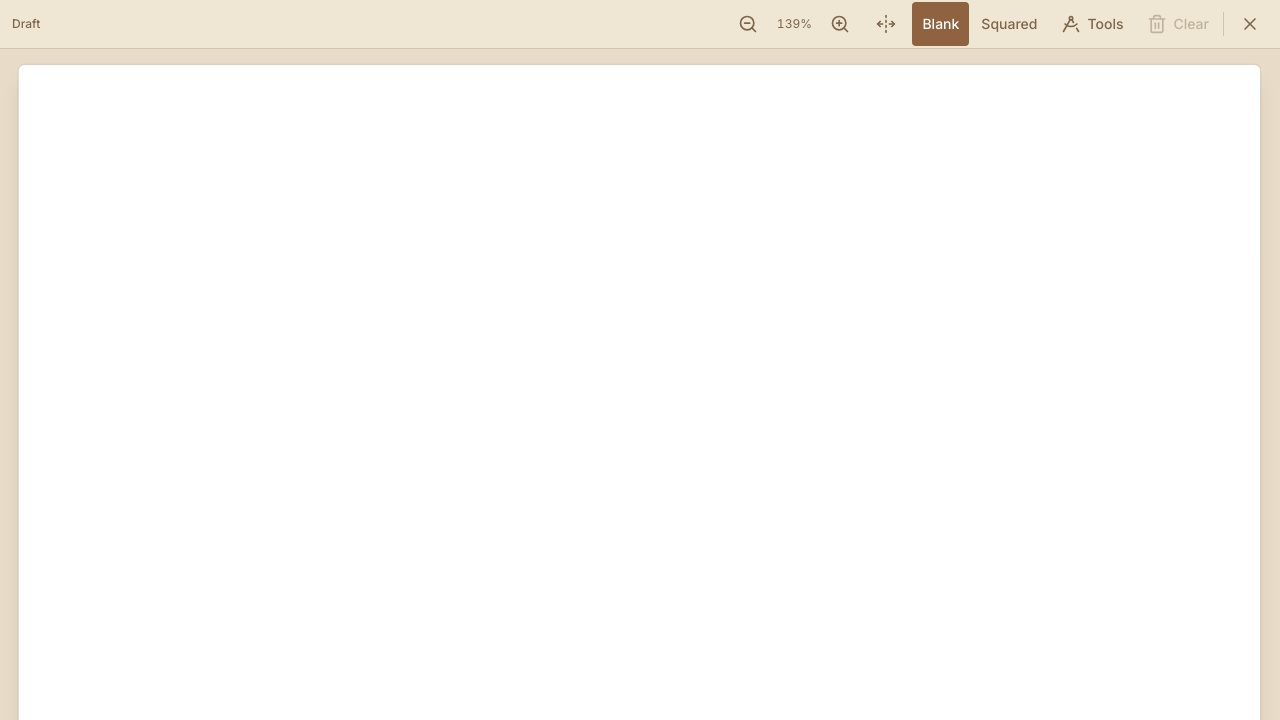
DraftPane › drawing axes › remembers the axes' settings on this board, and opens with them next time
Click the button "Tools".
click(1092, 24)  # box [1051,2,1133,46]
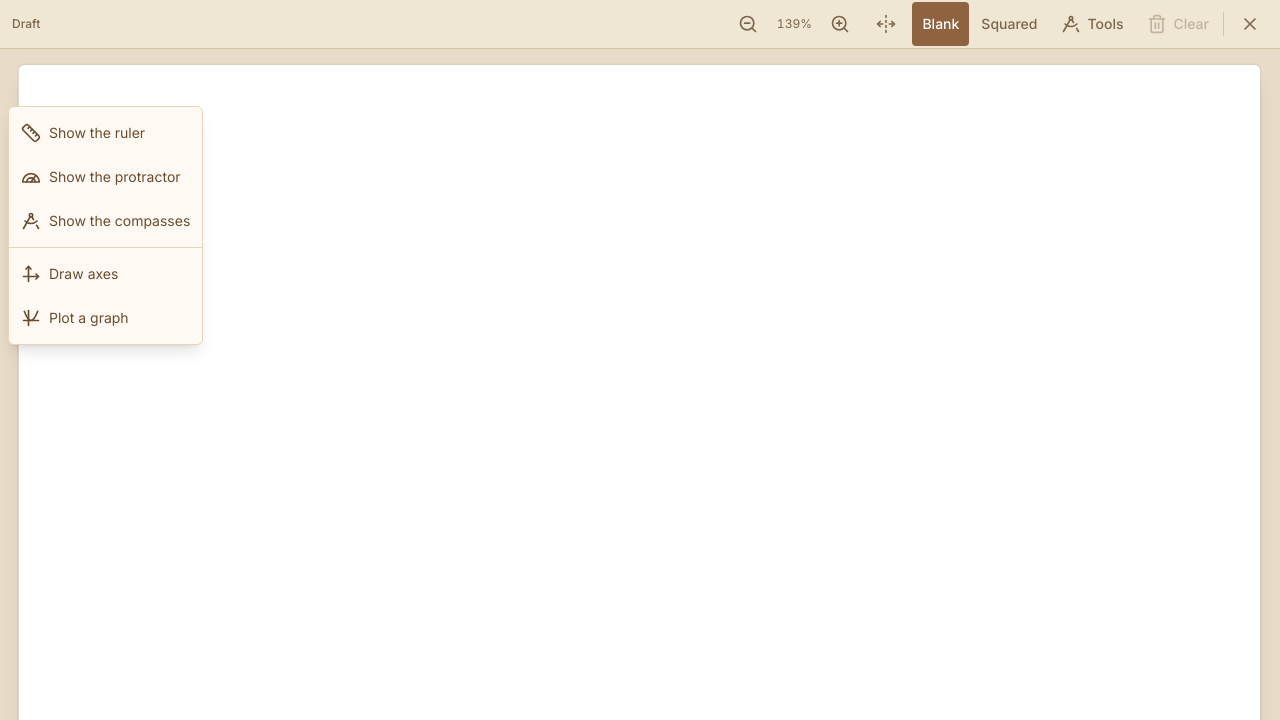
Click the menu item "Draw axes".
click(106, 274)  # box [9,252,202,296]
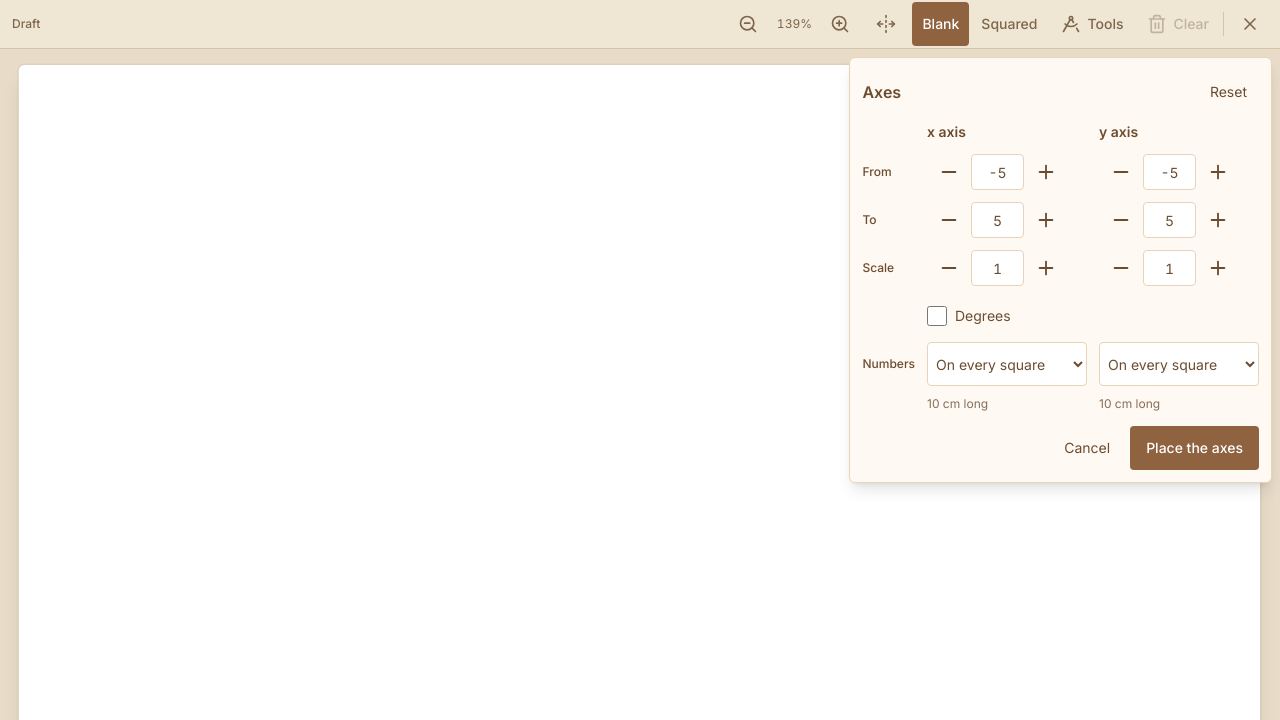
Click the 3rd button named "One square higher".
click(1046, 220)  # box [1024,198,1068,242]
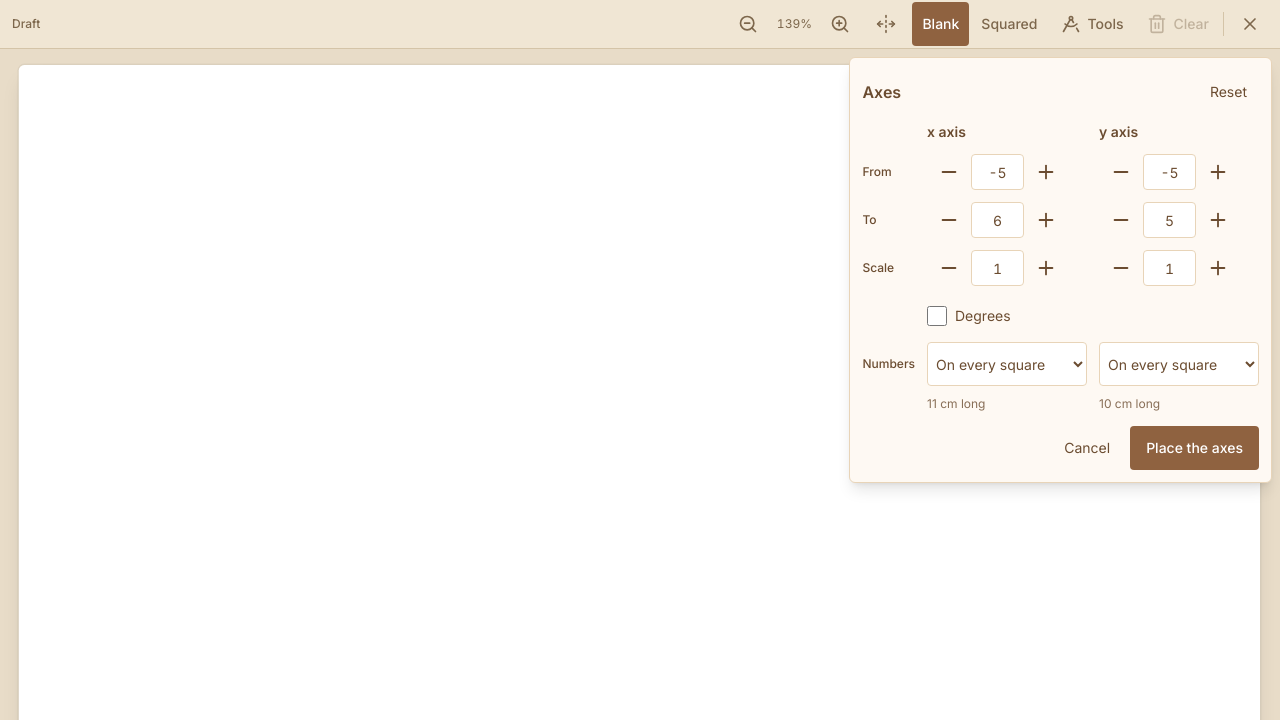
Click the button "Cancel".
click(1087, 448)  # box [1052,426,1122,470]
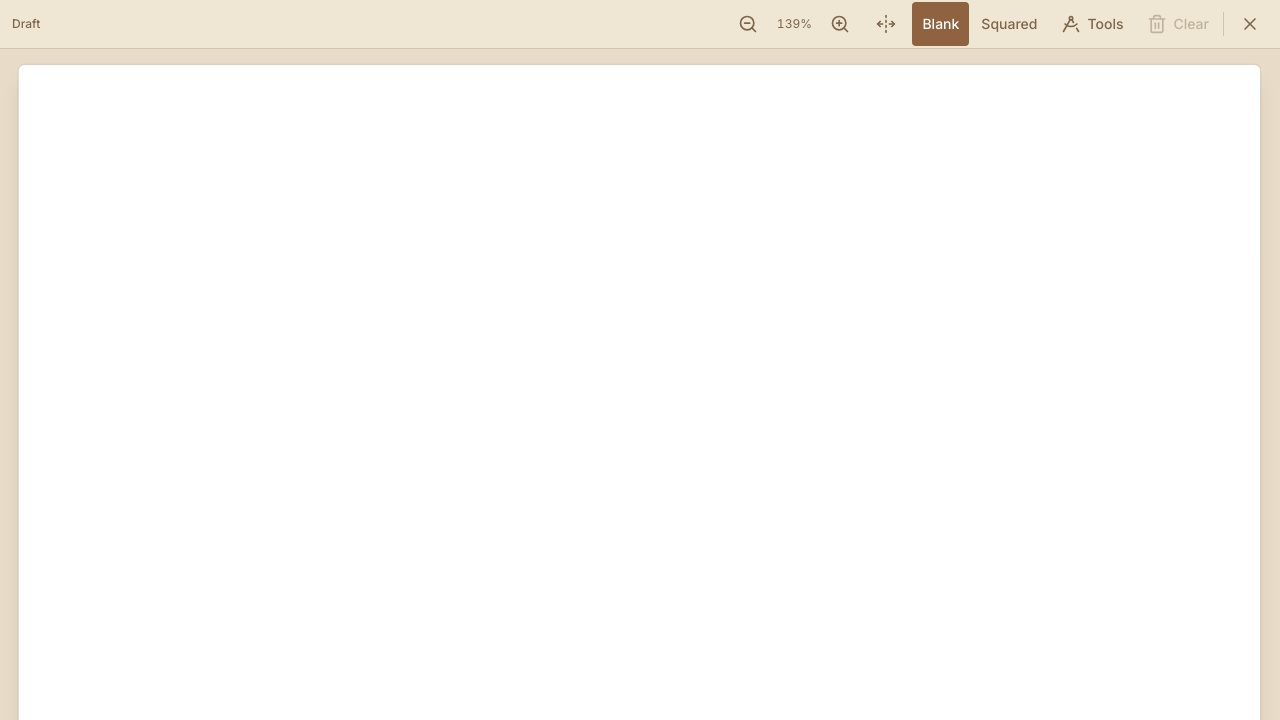
Click the button "Tools".
click(1092, 24)  # box [1051,2,1133,46]
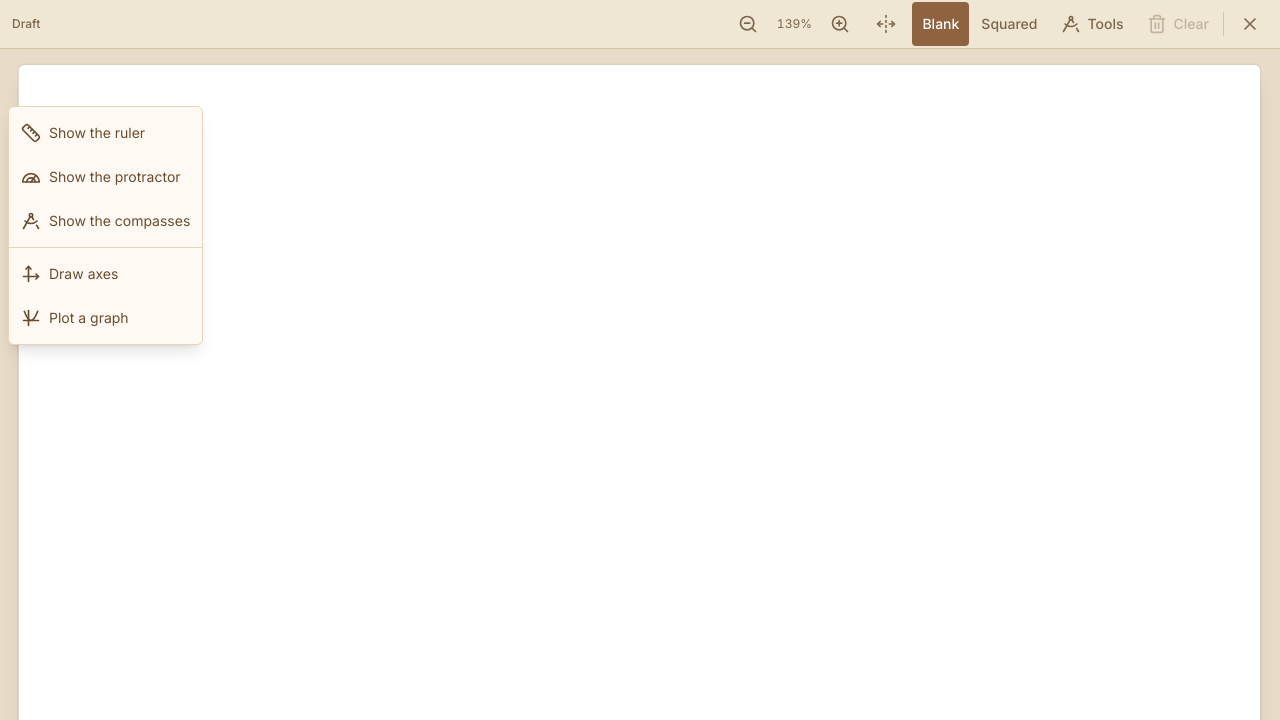
Click the menu item "Draw axes".
click(106, 274)  # box [9,252,202,296]
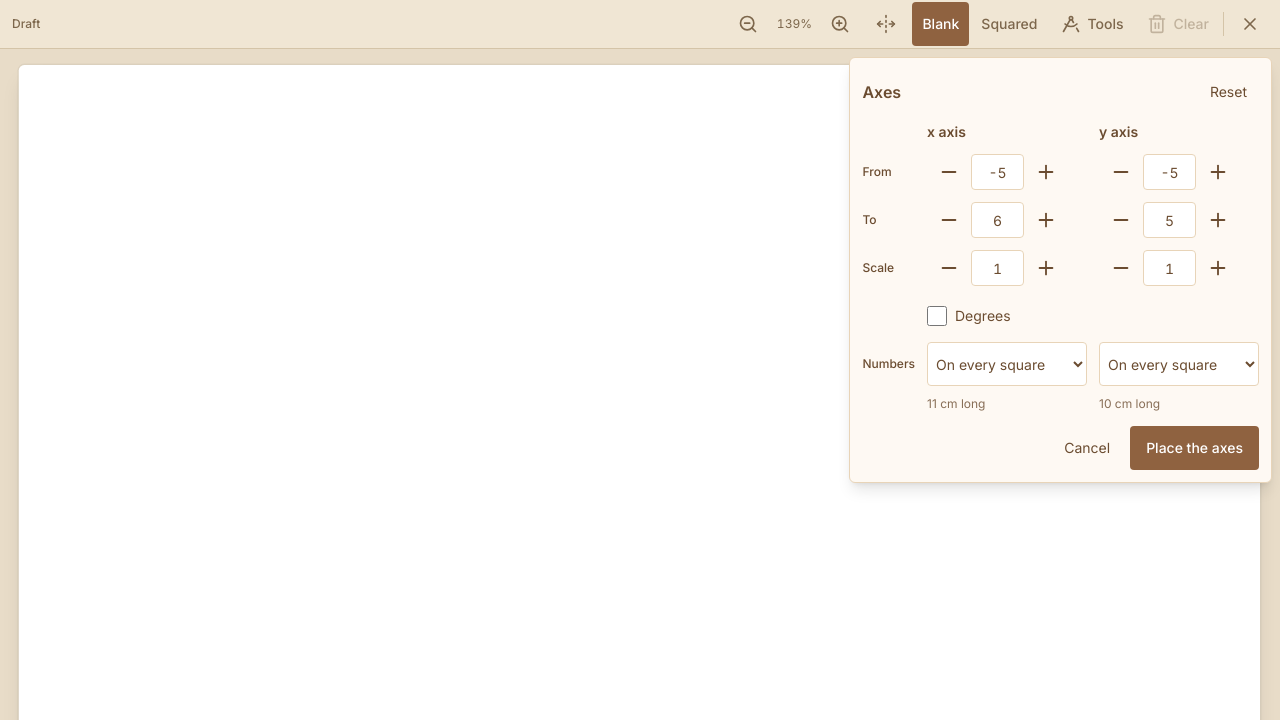
Expected: the 1st field named "To" holds "6", [971,202,1024,238]
